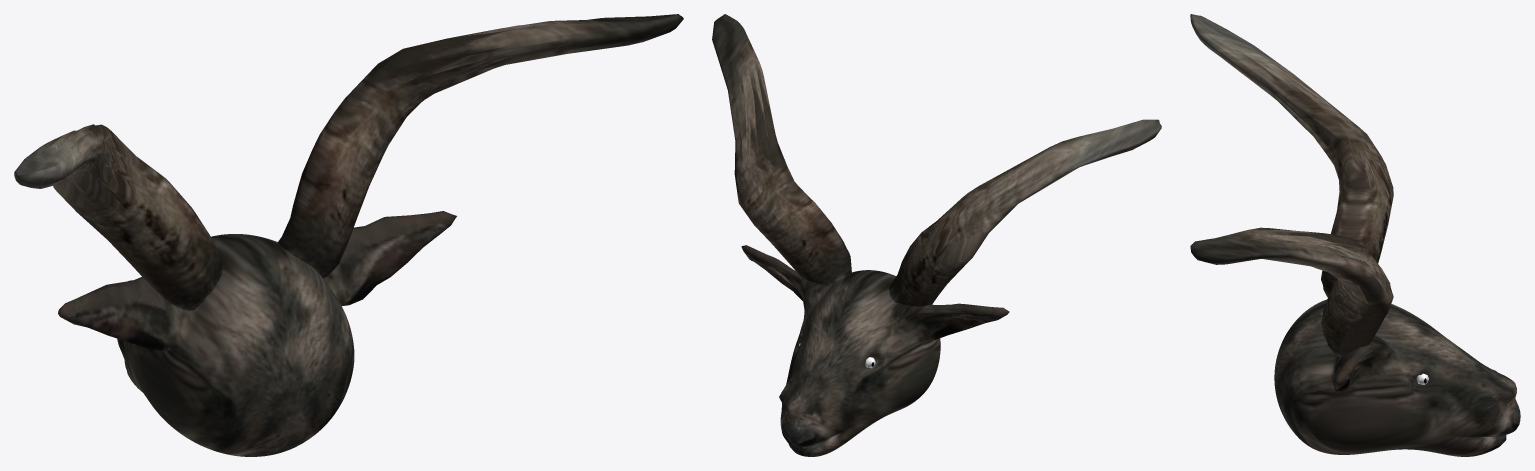
File: Goat.fbx
3 renders of one model, left to right at view 1: azimuth 30°, elevation 25°; view 2: azimuth 150°, elevation 25°; view 3: azimuth 270°, elevation 25°, orthographic. The views are drawn at different scales.
Visible parts, largest first — view 1: Eye.009; view 2: Eye.009; view 3: Eye.009.
Part boxes in pixels (x1,y1,x2,y2): Eye.009: [14, 14, 683, 456]; Eye.009: [712, 14, 1161, 456]; Eye.009: [1190, 14, 1520, 456].
Size of the model in its own units: 649 by 409 by 379.
